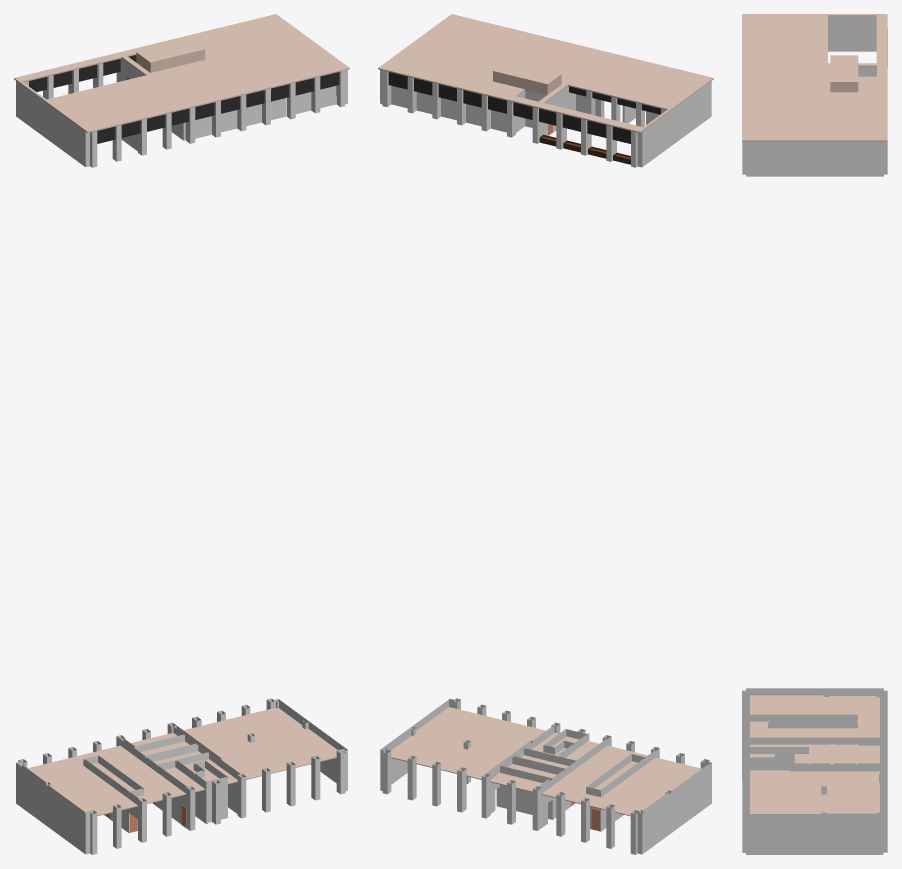
Rendered from MSH_Torre-B_Planta-baja.fbx.
3 views of the same model, side by side, from view 1: azimuth 30°, elevation 25°; view 2: azimuth 150°, elevation 25°; view 3: azimuth 270°, elevation 25° (orthographic).
Visible parts, largest first — view 1: MSH_Torre_2.Azotea, MSH_Torre-B_Techo-planta-baja, MSH_Torre_2_Piso_1.078, MSH_Azotea-terraza-food-lab_Torre-B, MSH_Muros_Lobby_T2, MSH_Techo-food-lab_Torre-B; view 2: MSH_Torre_2.Azotea, MSH_Torre-B_Techo-planta-baja, MSH_Azotea-terraza-food-lab_Torre-B, MSH_Torre_2_Piso_1.078, MSH_Muros_Lobby_T2, MSH_Techo-food-lab_Torre-B, MSH_Macetas; view 3: MSH_Torre_2.Azotea, MSH_Torre-B_Techo-planta-baja, MSH_Torre_2_Piso_1.078, MSH_Muros_Lobby_T2, MSH_Techo-food-lab_Torre-B, MSH_Azotea-terraza-food-lab_Torre-B.
Boxes of the visible parts, left/top/right/bottom form: MSH_Torre_2.Azotea: left=122, top=14, right=349, bottom=138; MSH_Torre-B_Techo-planta-baja: left=27, top=707, right=337, bottom=816; MSH_Torre_2_Piso_1.078: left=16, top=698, right=347, bottom=854; MSH_Azotea-terraza-food-lab_Torre-B: left=14, top=52, right=195, bottom=167; MSH_Muros_Lobby_T2: left=83, top=726, right=254, bottom=832; MSH_Techo-food-lab_Torre-B: left=52, top=80, right=195, bottom=132; MSH_Torre_2.Azotea: left=378, top=14, right=605, bottom=132; MSH_Torre-B_Techo-planta-baja: left=391, top=707, right=701, bottom=816; MSH_Azotea-terraza-food-lab_Torre-B: left=507, top=78, right=711, bottom=167; MSH_Torre_2_Piso_1.078: left=380, top=698, right=711, bottom=854; MSH_Muros_Lobby_T2: left=463, top=726, right=655, bottom=831; MSH_Techo-food-lab_Torre-B: left=571, top=51, right=713, bottom=104; MSH_Macetas: left=539, top=134, right=630, bottom=164; MSH_Torre_2.Azotea: left=742, top=55, right=887, bottom=176; MSH_Torre-B_Techo-planta-baja: left=750, top=695, right=879, bottom=813; MSH_Torre_2_Piso_1.078: left=742, top=688, right=887, bottom=854; MSH_Muros_Lobby_T2: left=748, top=714, right=879, bottom=794; MSH_Techo-food-lab_Torre-B: left=742, top=14, right=812, bottom=65; MSH_Azotea-terraza-food-lab_Torre-B: left=812, top=14, right=887, bottom=76.
Size of the model in its own units: 3226 by 8638 by 1573.
